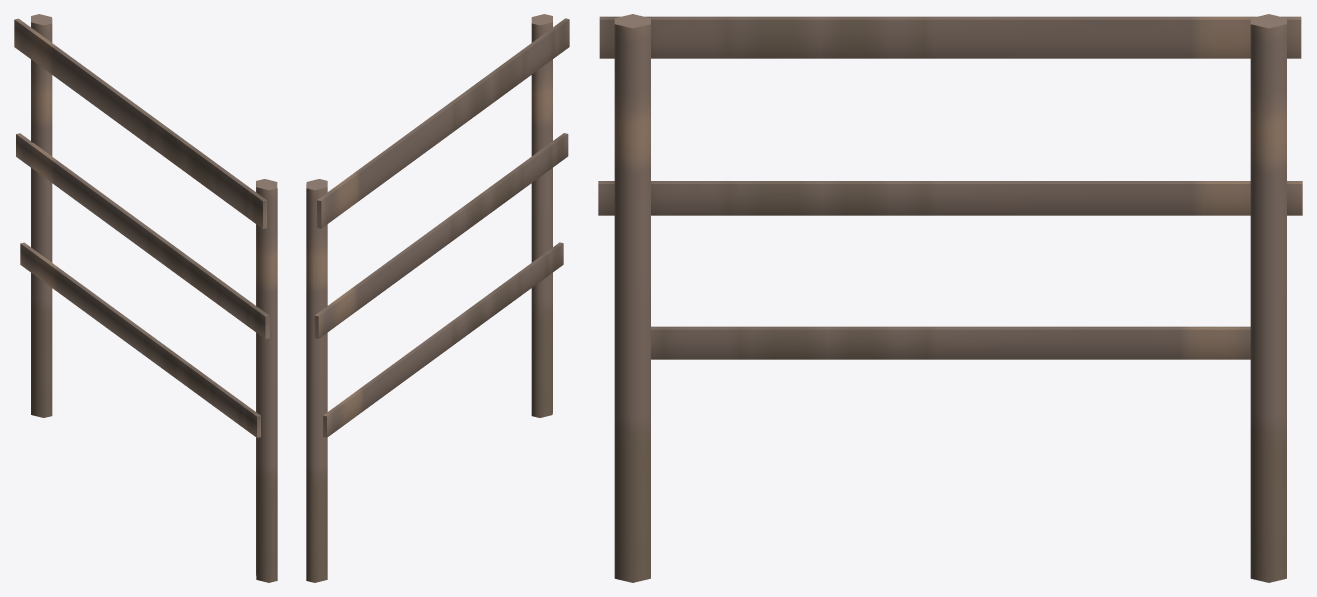
File: WoodFence01a.fbx
3 renders of one model, left to right at view 1: azimuth 30°, elevation 25°; view 2: azimuth 150°, elevation 25°; view 3: azimuth 270°, elevation 25°, orthographic. The views are drawn at different scales.
Parts seen in each view (by area): view 1: WoodFence01a; view 2: WoodFence01a; view 3: WoodFence01a.
Boxes of the visible parts, <box> form: WoodFence01a: <box>14,14,277,582</box>; WoodFence01a: <box>306,14,569,582</box>; WoodFence01a: <box>598,14,1302,582</box>.
Size of the model in its own units: 0.0814 by 1.17 by 1.34.
